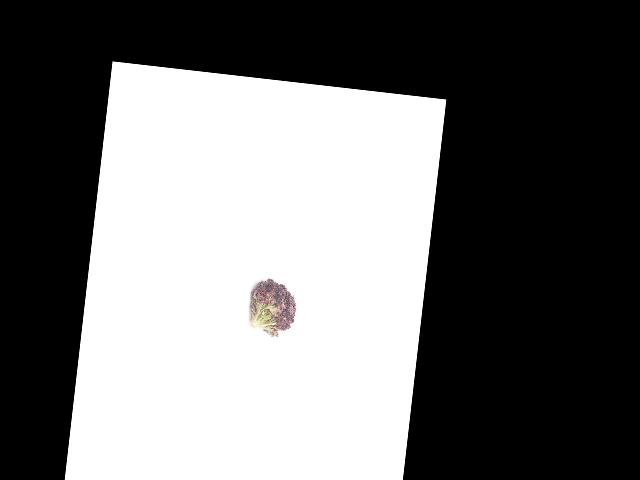lettuce: (243, 273, 301, 336)
